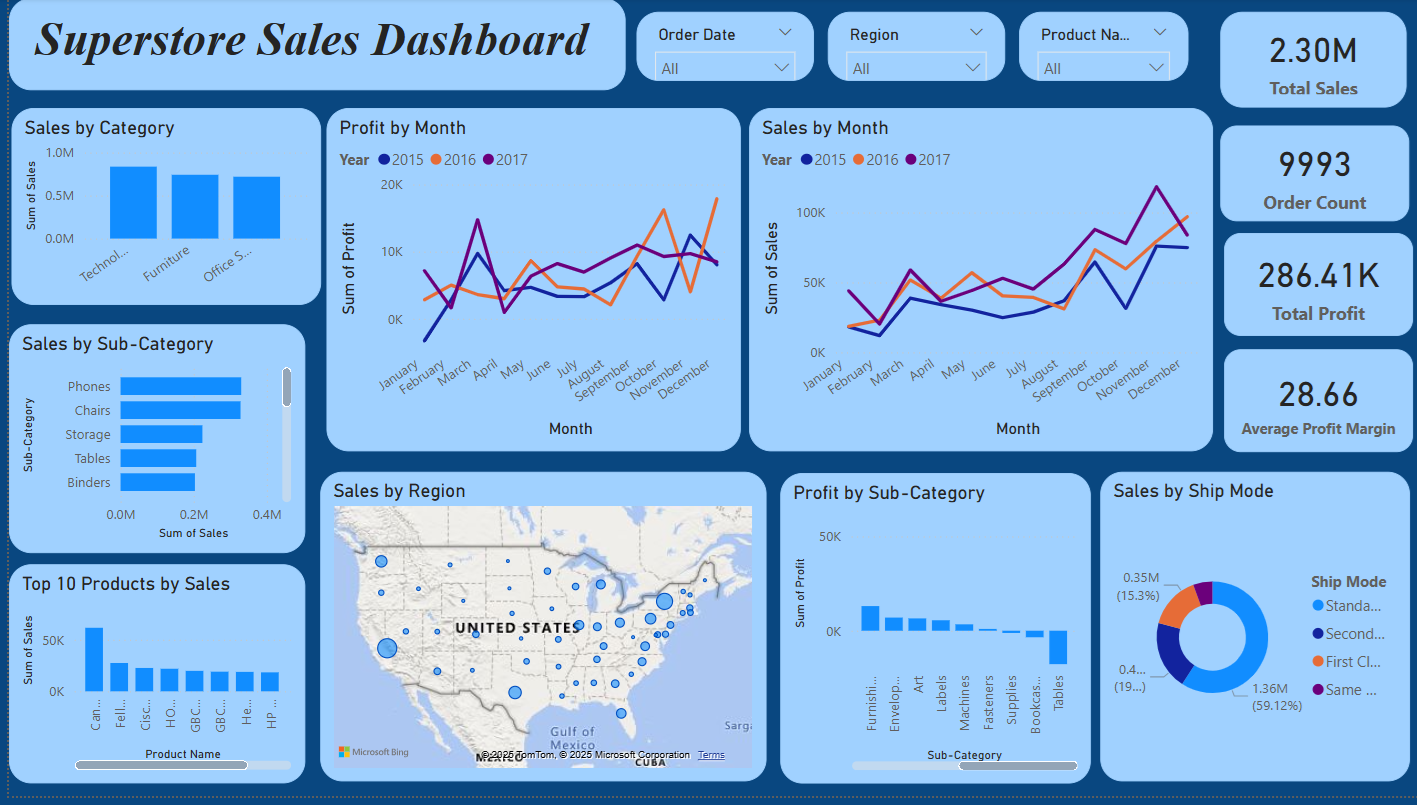

The dashboard page shown, as its layout file describes it:
{"tool":"powerbi","page":{"name":"Page 1","canvas":[1280,720],"ordinal":0},"visuals":[{"type":"clusteredColumnChart","title":"Sales by Category","fields":{"Category":["Cleaned_Superstore.Category"],"Y":["Sum(Cleaned_Superstore.Sales)"]},"box":[1.8,99.7,279.4,178],"z":0},{"type":"columnChart","title":"Profit by Sub-Category","fields":{"Category":["Cleaned_Superstore.Sub-Category"],"Y":["Sum(Cleaned_Superstore.Profit)"]},"box":[695.8,428,280,280],"z":1000},{"type":"lineChart","title":"Sales by Month","fields":{"Y":["Sum(Cleaned_Superstore.Sales)"],"Category":["Cleaned_Superstore.Order Date.Variation.Date Hierarchy.Month"],"Series":["Cleaned_Superstore.Order Date.Variation.Date Hierarchy.Year"]},"box":[667.4,99.7,418.2,309.7],"z":2000},{"type":"map","title":"Sales by Region","fields":{"Category":["Cleaned_Superstore.State"],"Size":["Sum(Cleaned_Superstore.Sales)"]},"box":[281.2,427.1,402.2,279.4],"z":3000},{"type":"card","fields":{"Values":["Sum(Cleaned_Superstore.Profit)"]},"box":[1095.1,211.9,170.7,92.4],"z":4000},{"type":"card","fields":{"Values":["Sum(Cleaned_Superstore.Sales)"]},"box":[1092.3,12.8,167.8,86.8],"z":5000},{"type":"card","fields":{"Values":["Avg(Cleaned_Superstore.Profit)"]},"box":[1095.1,317.2,170.7,92.4],"z":6000},{"type":"card","fields":{"Values":["CountNonNull(Cleaned_Superstore.Order ID)"]},"box":[1092.3,115.2,170.7,86.8],"z":7000},{"type":"donutChart","title":"Sales by Ship Mode","fields":{"Category":["Cleaned_Superstore.Ship Mode"],"Y":["Sum(Cleaned_Superstore.Sales)"]},"box":[984.2,427.1,279.4,279.4],"z":8000},{"type":"columnChart","title":"Top 10 Products by Sales","fields":{"Category":["Cleaned_Superstore.Product Name"],"Y":["Sum(Cleaned_Superstore.Sales)"]},"box":[0,510.8,267,197.6],"z":9000},{"type":"textbox","box":[0,0,556.4,83.2],"z":10000},{"type":"clusteredBarChart","title":"Sales by Sub-Category","fields":{"Category":["Cleaned_Superstore.Sub-Category"],"Y":["Sum(Cleaned_Superstore.Sales)"]},"box":[0,293.7,267,206.5],"z":11000},{"type":"lineChart","title":"Profit by Month","fields":{"Category":["Cleaned_Superstore.Order Date.Variation.Date Hierarchy.Month"],"Series":["Cleaned_Superstore.Order Date.Variation.Date Hierarchy.Year"],"Y":["Sum(Cleaned_Superstore.Profit)"]},"box":[286.5,99.7,373.8,309.7],"z":12000},{"type":"slicer","fields":{"Values":["Cleaned_Superstore.Order Date"]},"box":[566,12.5,160.2,62.3],"z":13000},{"type":"slicer","fields":{"Values":["Cleaned_Superstore.Region"]},"box":[738.6,12.5,160.2,62.3],"z":14000},{"type":"slicer","fields":{"Values":["Cleaned_Superstore.Product Name"]},"box":[911.3,12.5,153.1,62.3],"z":15000}]}

Visuals, with their boxes in screenshot pixels (x1, y1, x2, y2), scaled from the page's 1280x720 canvas onto the 1417x805 screenshot:
"Sales by Category" clusteredColumnChart: 2,111,311,310
"Profit by Sub-Category" columnChart: 770,479,1080,792
"Sales by Month" lineChart: 739,111,1202,458
"Sales by Region" map: 311,478,757,790
card - Sum(Cleaned_Superstore.Profit): 1212,237,1401,340
card - Sum(Cleaned_Superstore.Sales): 1209,14,1395,111
card - Avg(Cleaned_Superstore.Profit): 1212,355,1401,458
card - CountNonNull(Cleaned_Superstore.Order ID): 1209,129,1398,226
"Sales by Ship Mode" donutChart: 1090,478,1399,790
"Top 10 Products by Sales" columnChart: 0,571,296,792
textbox: 0,0,616,93
"Sales by Sub-Category" clusteredBarChart: 0,328,296,559
"Profit by Month" lineChart: 317,111,731,458
slicer - Cleaned_Superstore.Order Date: 627,14,804,84
slicer - Cleaned_Superstore.Region: 818,14,995,84
slicer - Cleaned_Superstore.Product Name: 1009,14,1178,84
